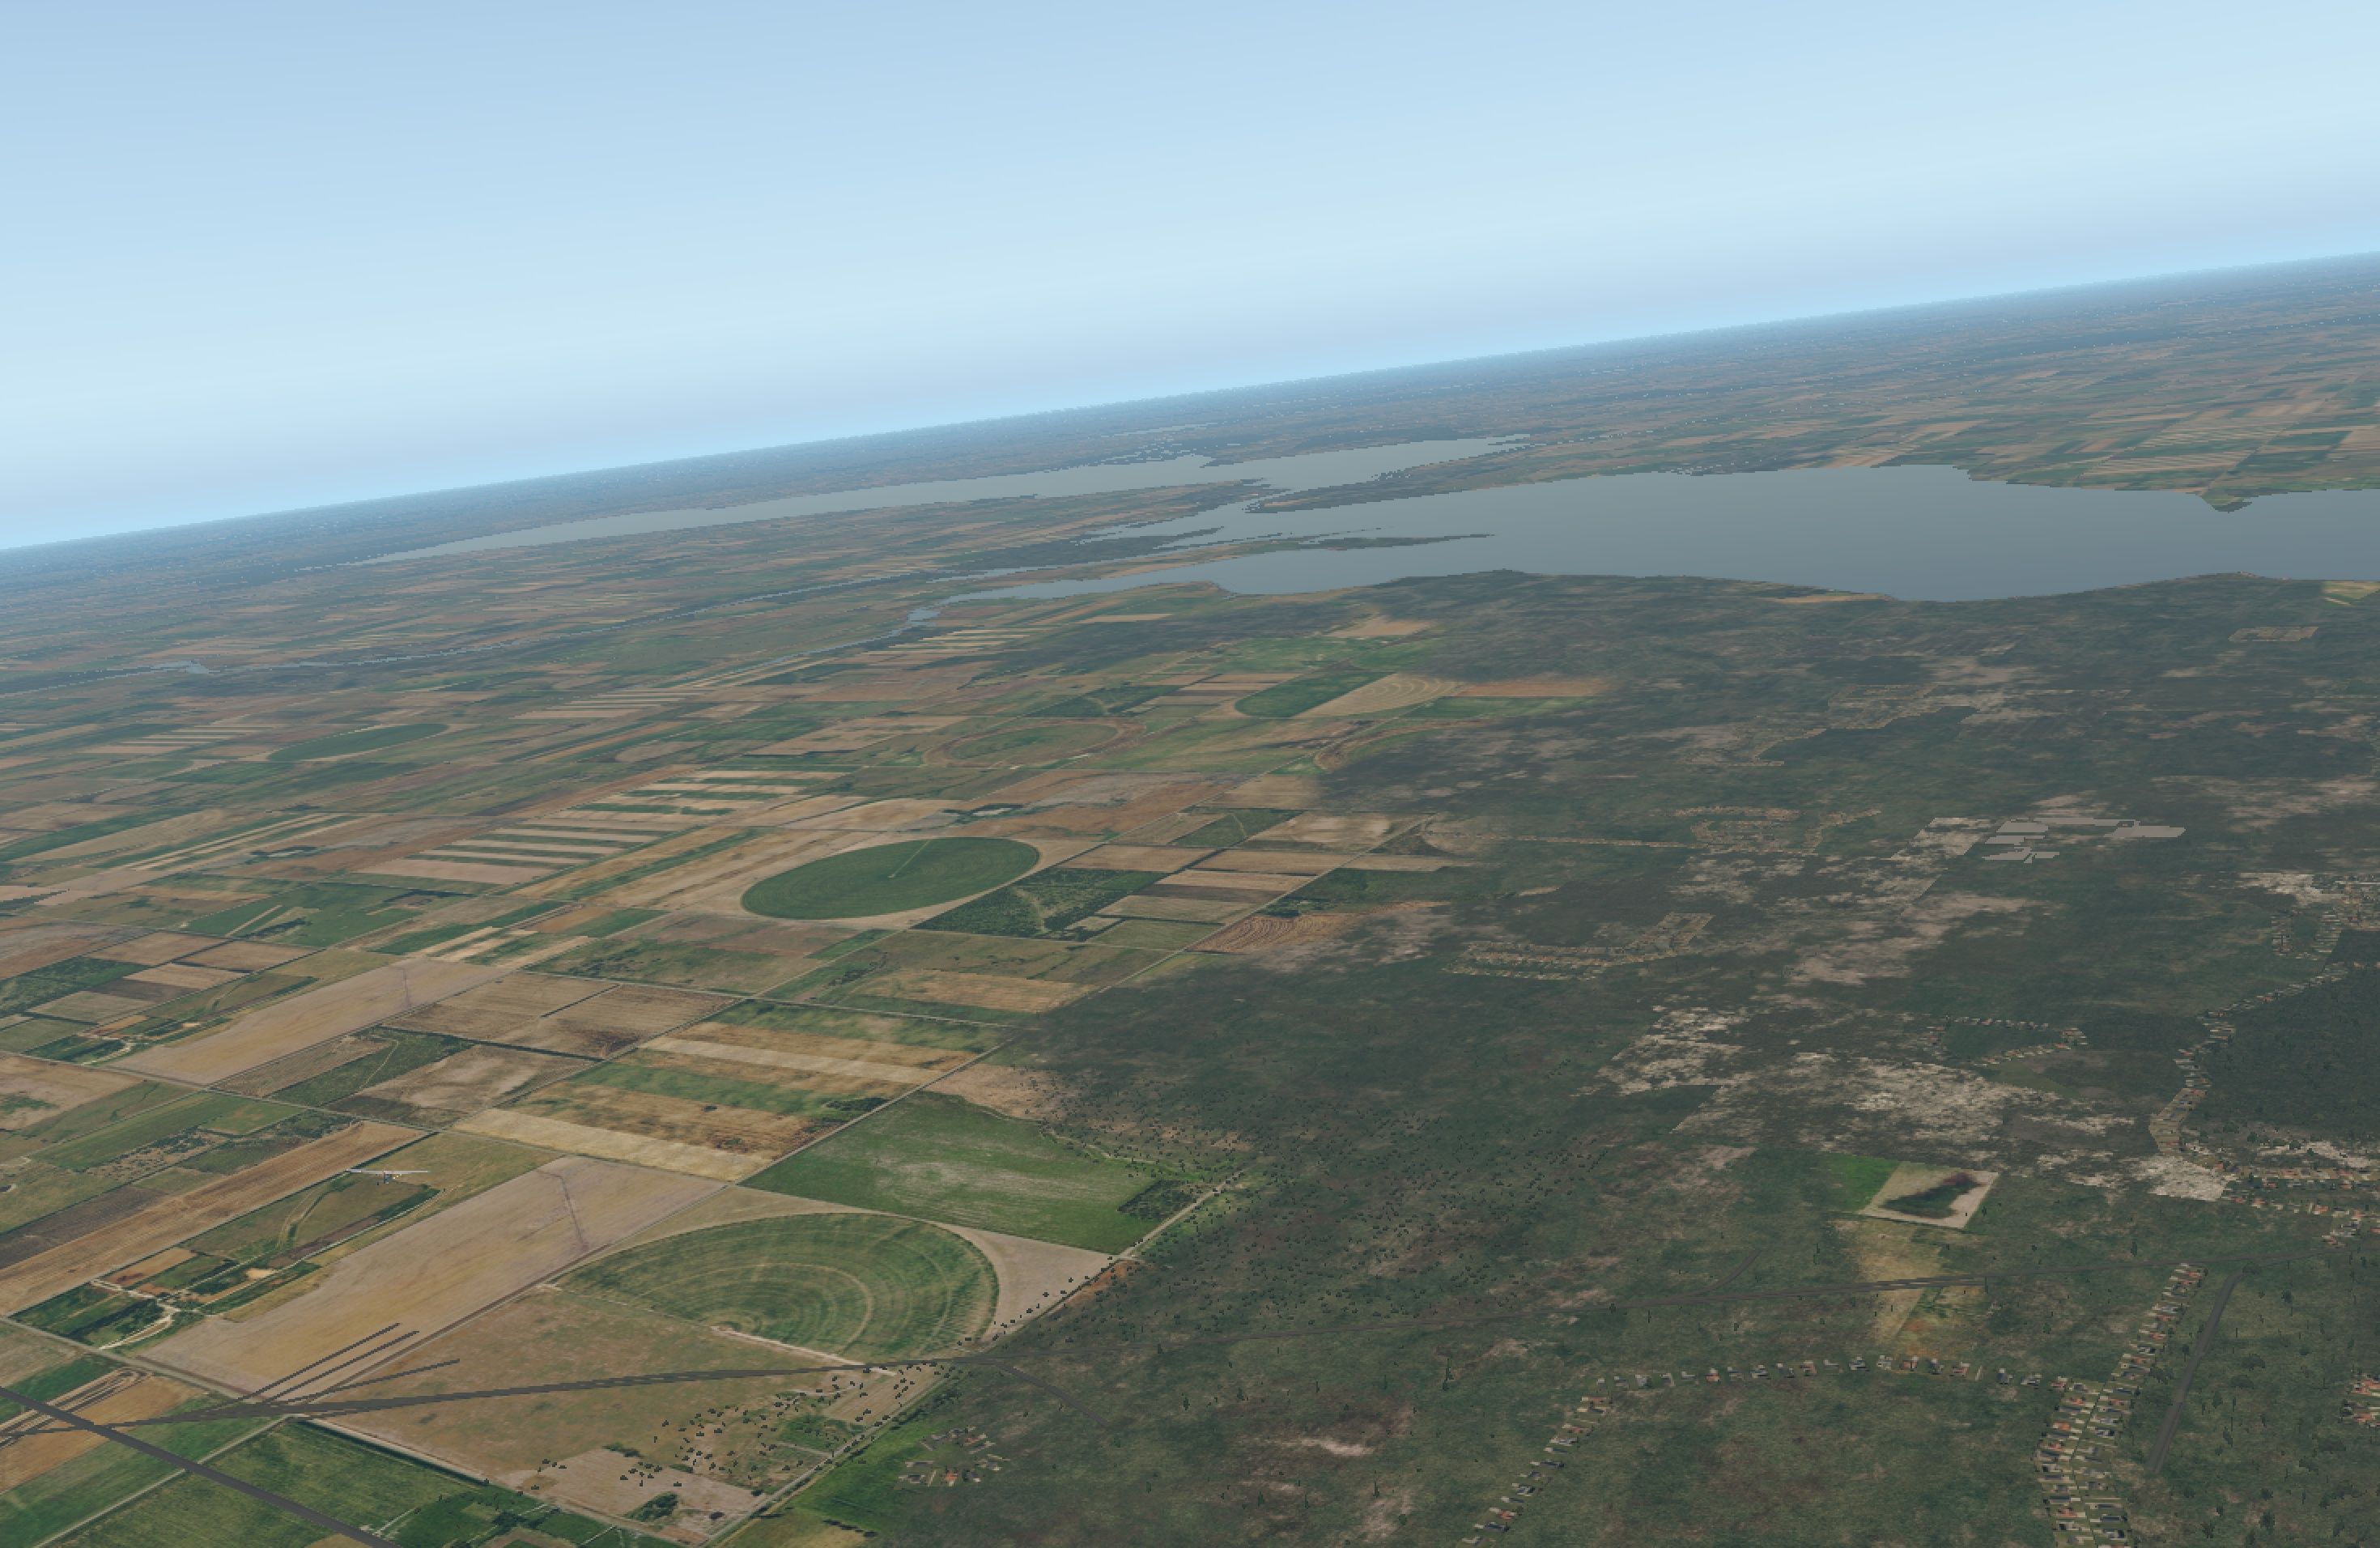aircraft: (363, 1166, 413, 1185)
